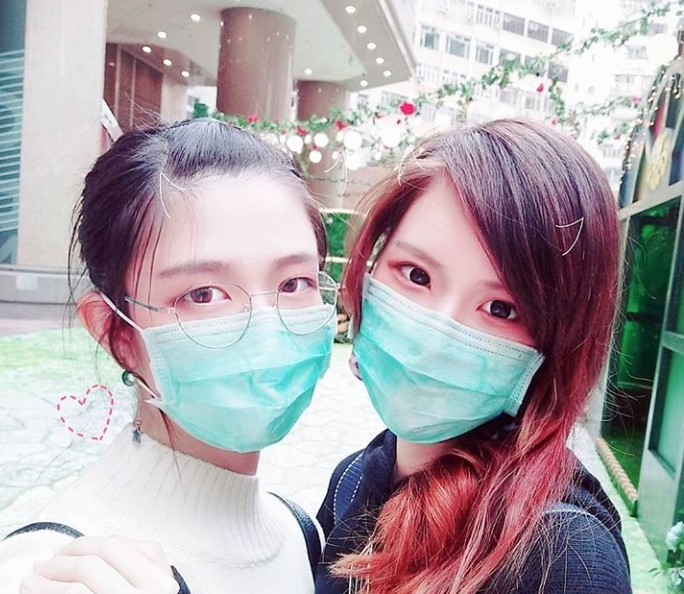face_with_mask: (80, 126, 337, 453), (350, 126, 589, 445)
